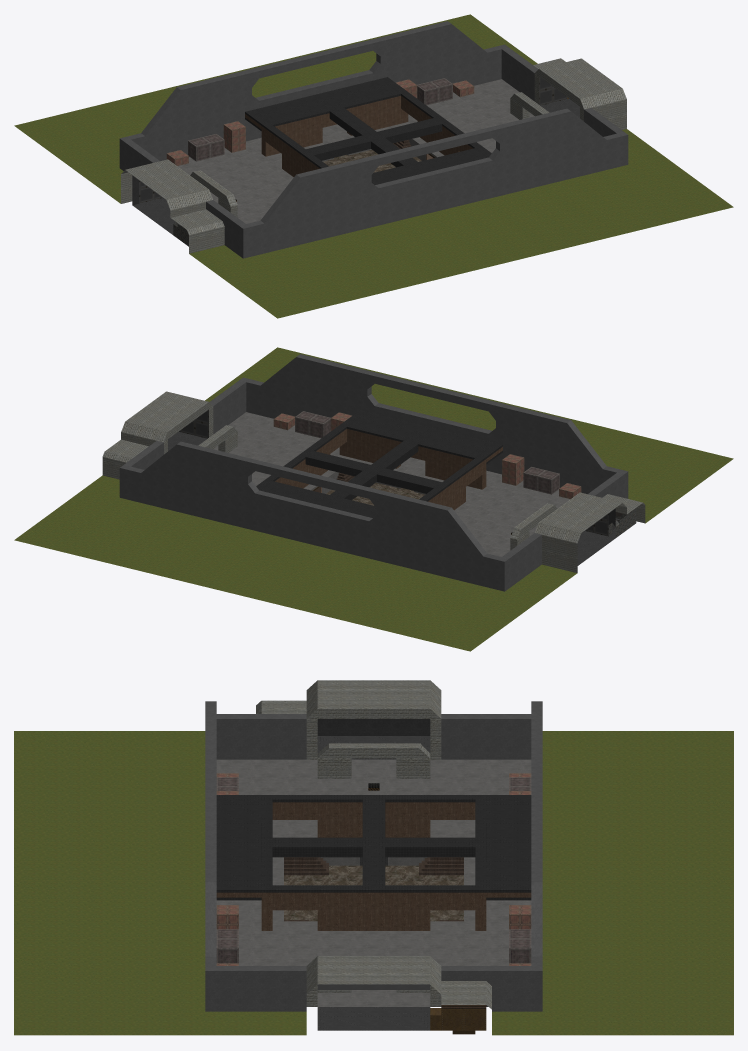
The model's file is haxx.fbx.
3 renders of one model, top to bottom at view 1: azimuth 30°, elevation 25°; view 2: azimuth 150°, elevation 25°; view 3: azimuth 270°, elevation 25°, orthographic. The views are drawn at different scales.
Visible parts, largest first — view 1: haxx; view 2: haxx; view 3: haxx.
Boxes of the visible parts, bbox=[...] form: haxx: bbox=[14, 14, 733, 318]; haxx: bbox=[14, 347, 733, 651]; haxx: bbox=[14, 680, 733, 1035].
Bounding box in the file's own units: 102 × 17.6 × 102.
